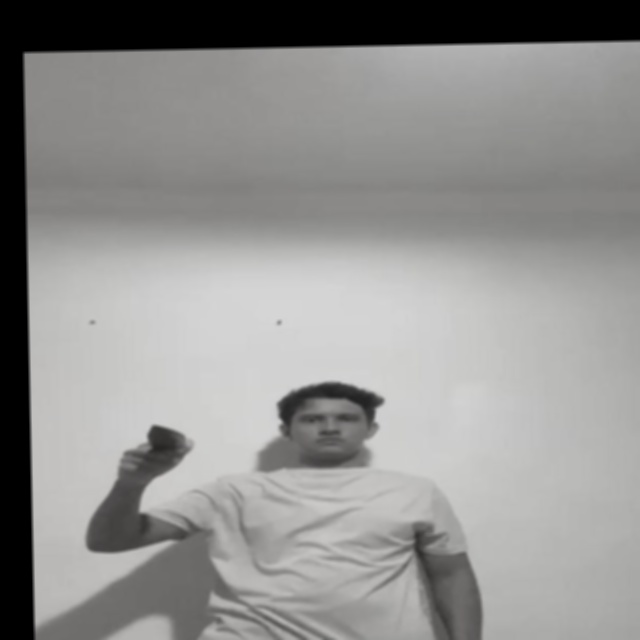Sharp-Object: (148, 423, 188, 448)
